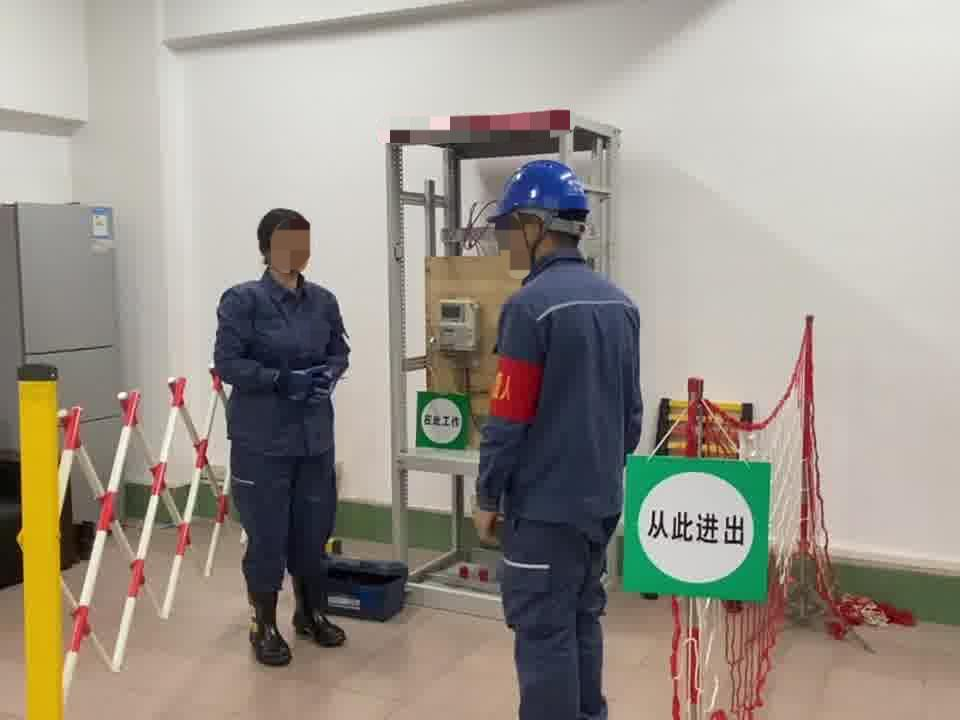halt: (492, 161, 597, 270)
inear: (515, 213, 553, 263)
unhalt: (256, 210, 319, 283)
